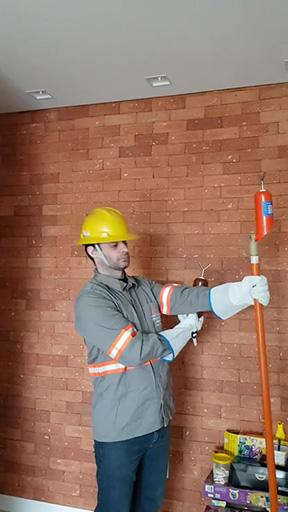Detector_Tensao_Contato: (254, 171, 276, 242), (190, 260, 215, 320)
Vara_Manobra: (246, 236, 279, 512)
